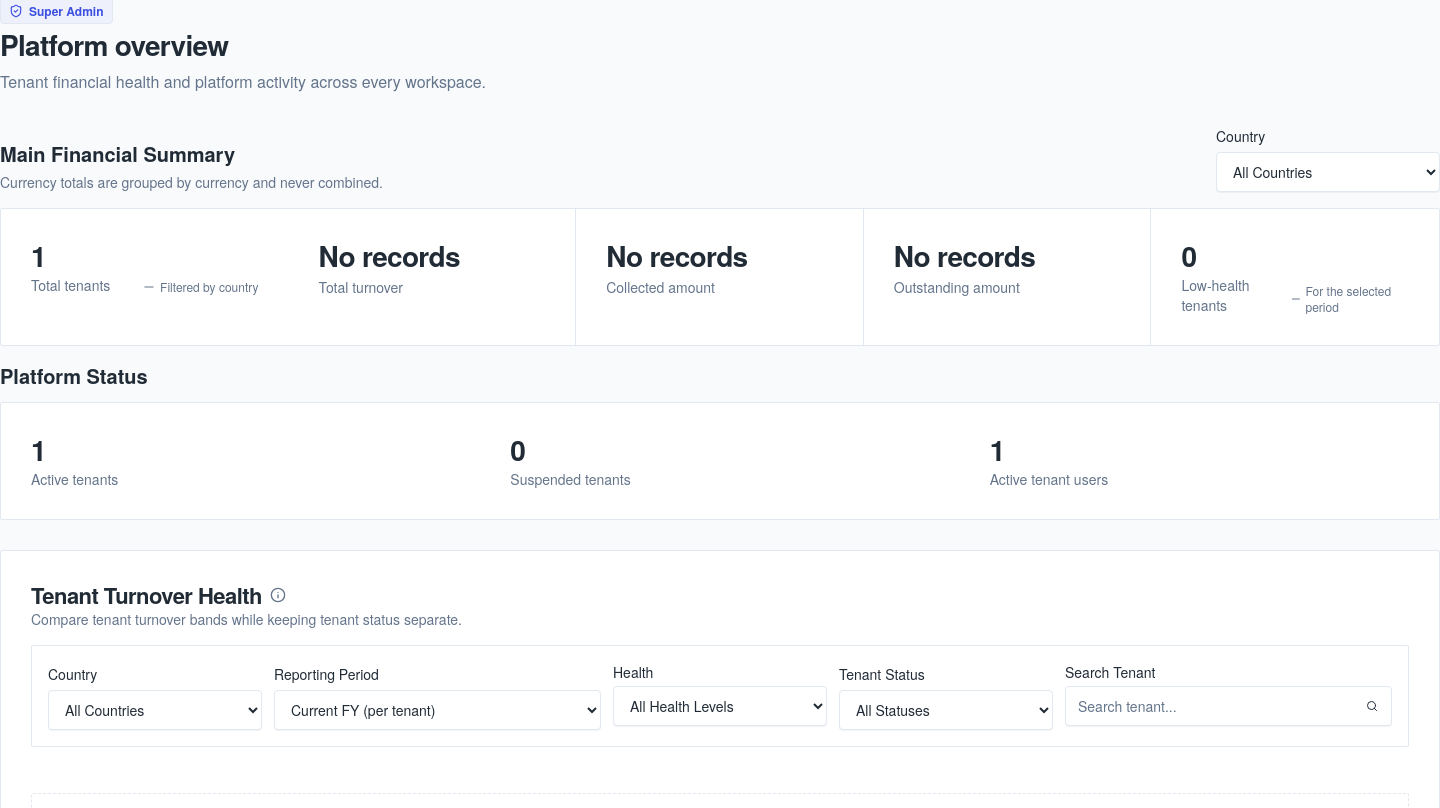
Test case: submits tenant search only after the search action and shows a no-results message
Expected: the heading "Tenant Turnover Health" is shown, [31,579,286,611]
Type "abc" into the field with placeholder "Search tenant...". click: coordinates (1228, 706)
box: [1065,686,1392,726]
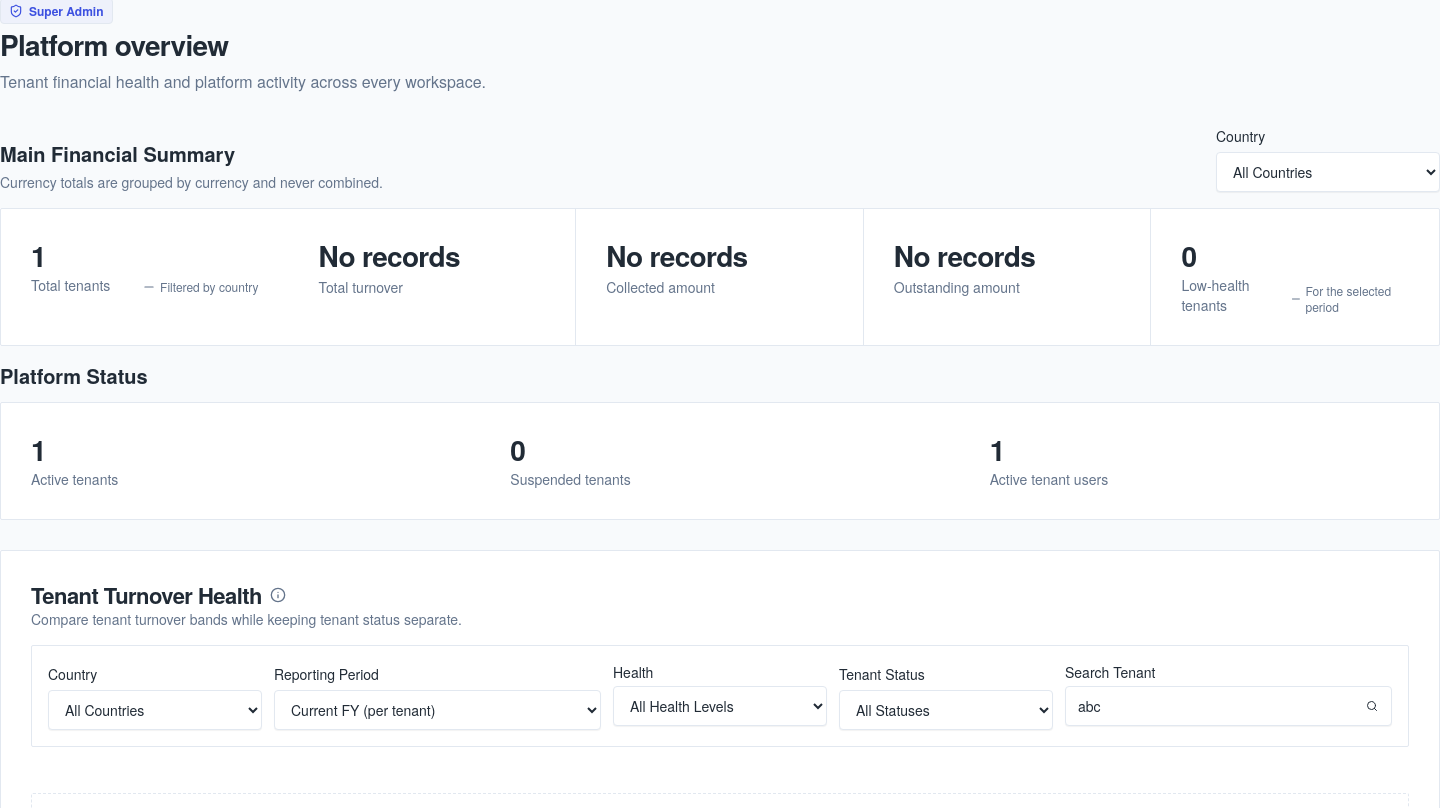
Expected: the heading "Tenant Turnover Health" is shown, [31,579,286,611]
Click the button named "Search tenants". click: coordinates (1372, 706)
box: [1356,690,1388,722]
(page scrolled)
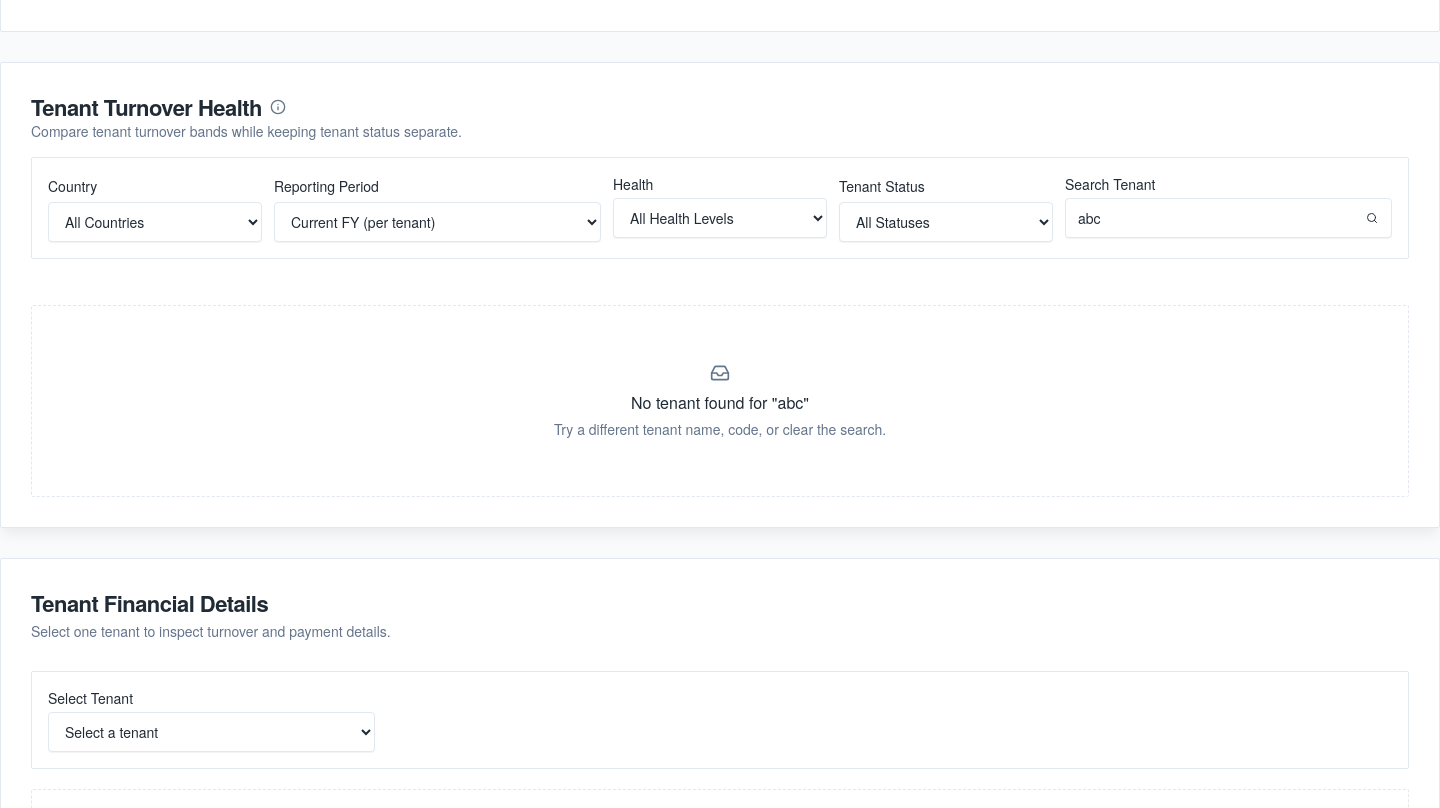
Now the text "No tenant found for \"abc\"" is shown, box [631,391,809,414]
